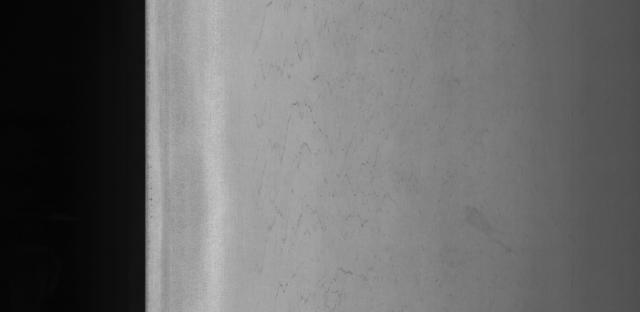silk_spot: (256, 8, 392, 264)
